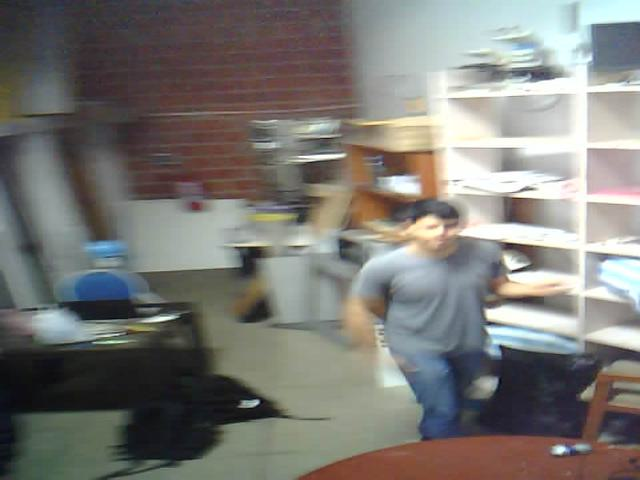person: (329, 163, 518, 457)
